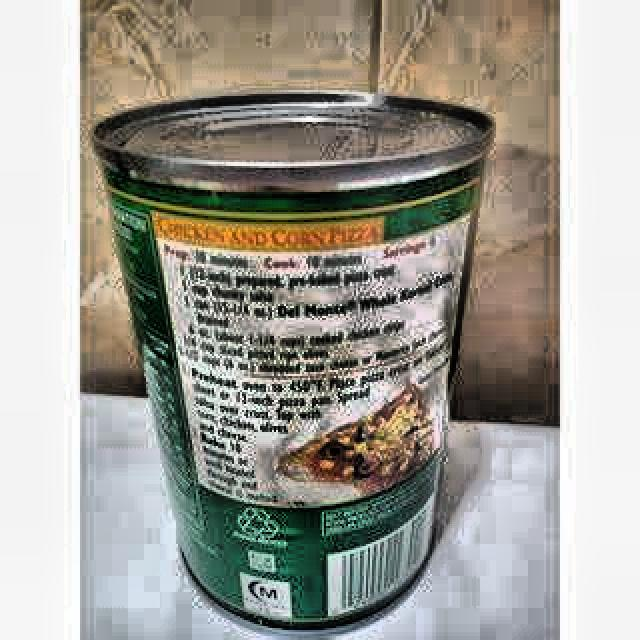Cans: (77, 51, 515, 640)
